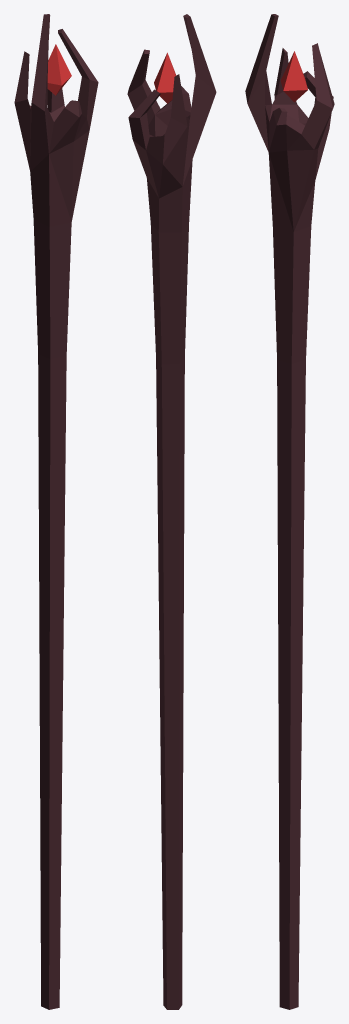
The model's file is magicStaff.fbx.
3 views of the same model, side by side, from view 1: azimuth 30°, elevation 25°; view 2: azimuth 150°, elevation 25°; view 3: azimuth 330°, elevation 25° (orthographic).
Parts seen in each view (by area): view 1: MagicStaff; view 2: MagicStaff; view 3: MagicStaff.
Part boxes in pixels (<box>): MagicStaff: <box>14,14,98,1009</box>; MagicStaff: <box>127,14,216,1009</box>; MagicStaff: <box>245,14,334,1009</box>.
Bounding box in the file's own units: 63.74 × 783 × 57.46.
